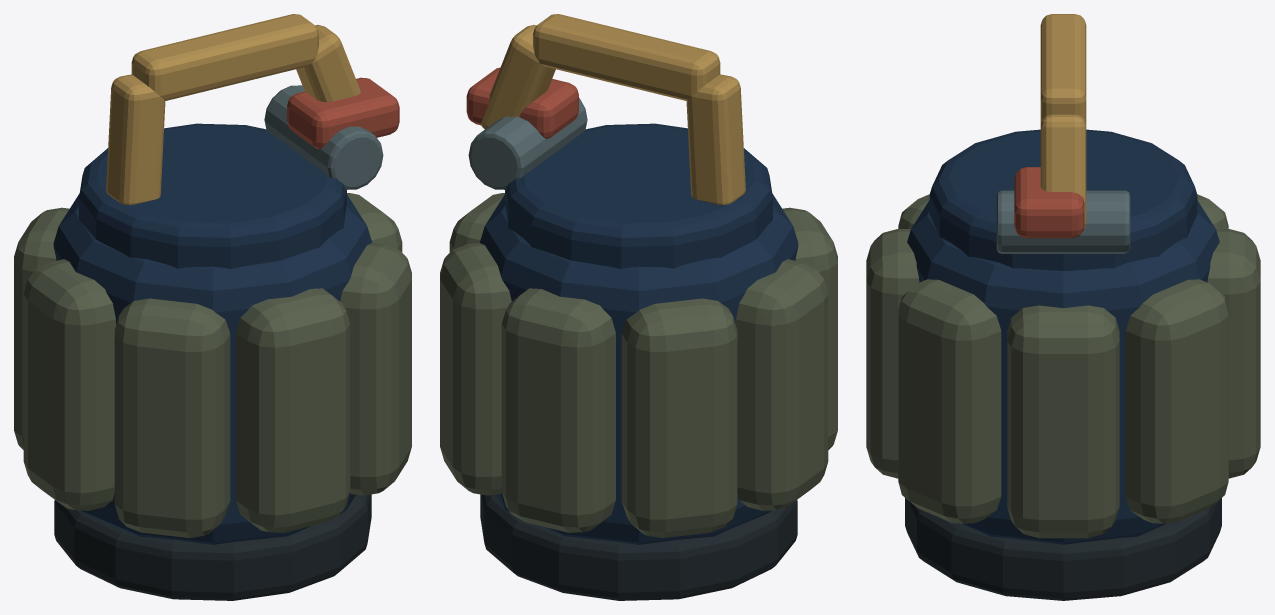
File: FERNSTONE_GRENADE.hi.glb
3 views of the same model, side by side, from view 1: azimuth 30°, elevation 25°; view 2: azimuth 150°, elevation 25°; view 3: azimuth 270°, elevation 25° (orthographic).
Visible parts, largest first — view 1: Body_Mesh; view 2: Body_Mesh; view 3: Body_Mesh.
Part boxes in pixels (box(x1,y1,x2,y2)): Body_Mesh: box(14, 14, 411, 600); Body_Mesh: box(440, 14, 837, 600); Body_Mesh: box(866, 14, 1260, 600).
Bounding box in the file's own units: 0.56 × 0.7725 × 0.56.
